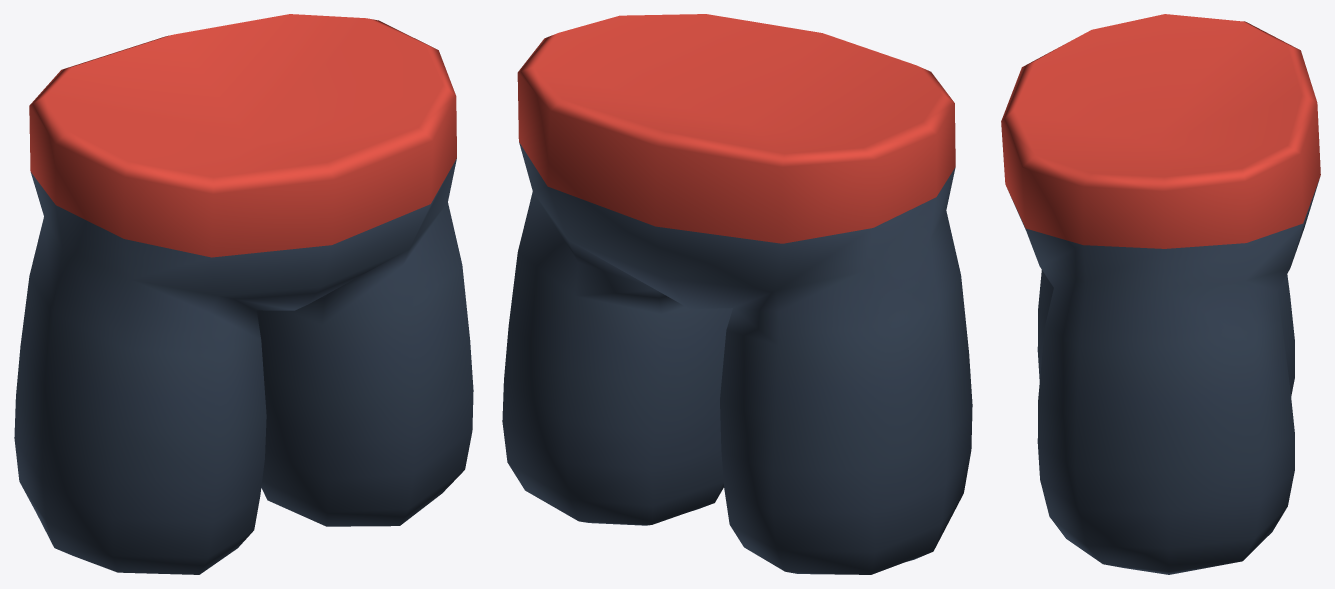
Rendered from Bottom_36.fbx.
3 views of the same model, side by side, from view 1: azimuth 30°, elevation 25°; view 2: azimuth 150°, elevation 25°; view 3: azimuth 270°, elevation 25° (orthographic). The views are drawn at different scales.
Parts seen in each view (by area): view 1: Bottom_36; view 2: Bottom_36; view 3: Bottom_36.
Part boxes in pixels (x1,y1,x2,y2): Bottom_36: (14, 14, 473, 574); Bottom_36: (502, 14, 972, 574); Bottom_36: (1001, 14, 1320, 574).
Bounding box in the file's own units: 40.89 × 41.56 × 29.68.
